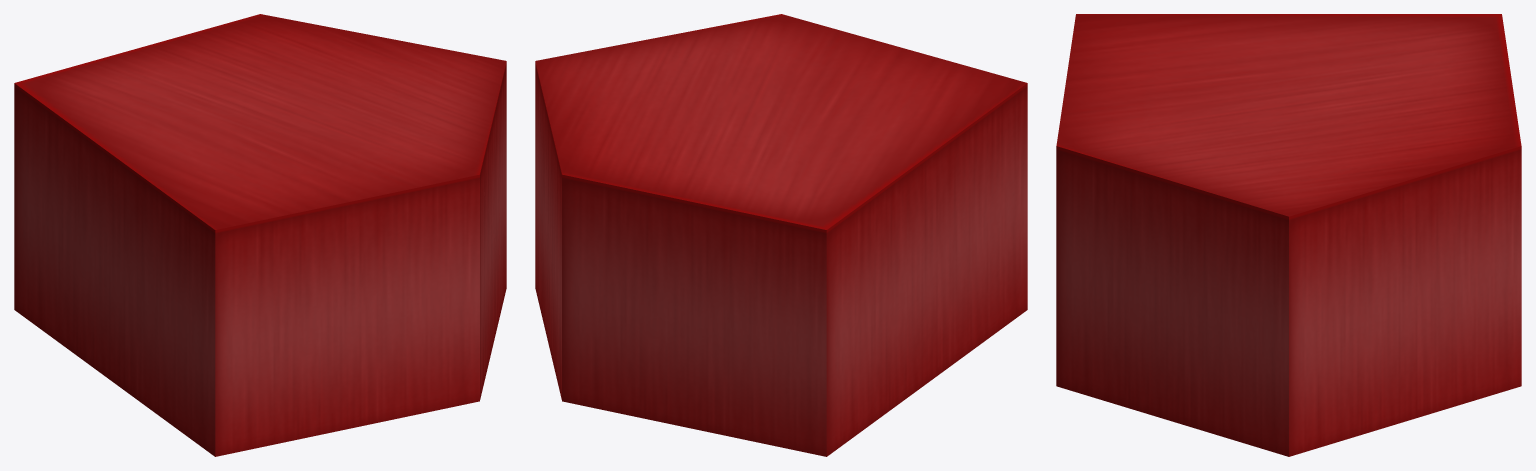
Rendered from steelPenta.obj.
The picture shows the model from 3 angles, left to right: view 1: azimuth 30°, elevation 25°; view 2: azimuth 150°, elevation 25°; view 3: azimuth 270°, elevation 25°; orthographic projection. The views are drawn at different scales.
Parts seen in each view (by area): view 1: steelPenta; view 2: steelPenta; view 3: steelPenta.
Boxes of the visible parts, left/top/right/bottom form: steelPenta: left=14, top=14, right=506, bottom=456; steelPenta: left=535, top=14, right=1027, bottom=456; steelPenta: left=1056, top=14, right=1521, bottom=456.
Bounding box in the file's own units: 1.81 × 1 × 1.75.
1 material, 1 textured.
